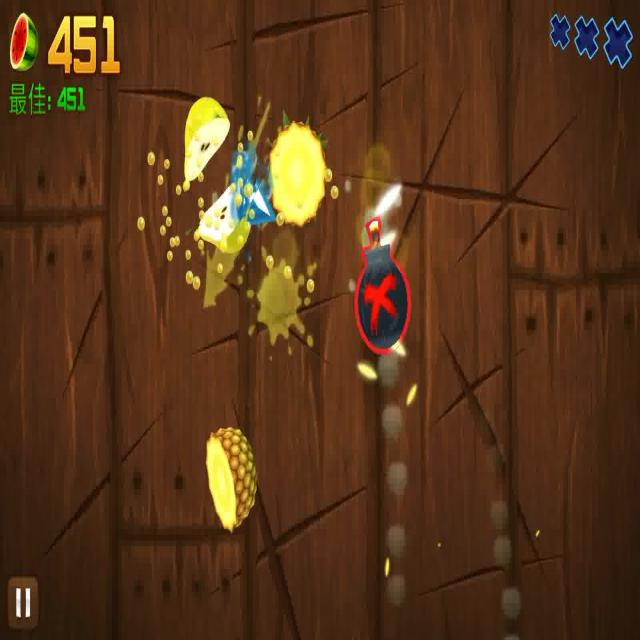bomb: (353, 211, 410, 352)
fruit: (269, 120, 327, 227), (203, 423, 257, 533), (180, 96, 228, 180), (198, 184, 252, 254)
